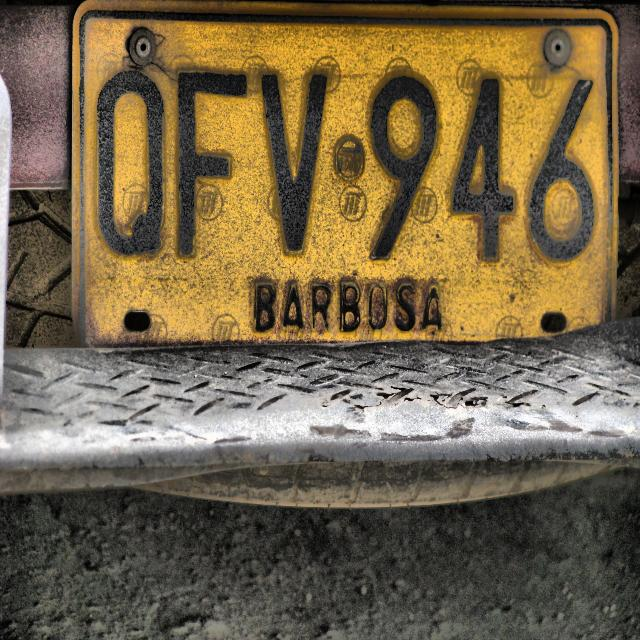plate: (73, 3, 616, 346)
